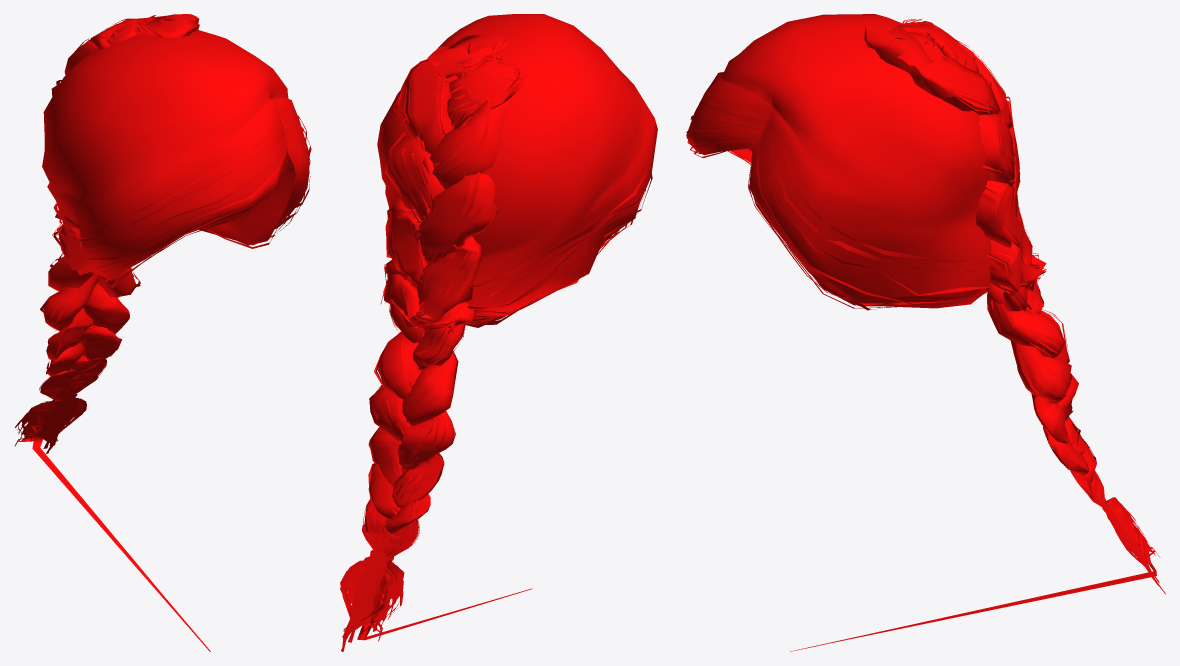
Rendered from elvs_french_braid_variation_M.glb.
3 views of the same model, side by side, from view 1: azimuth 30°, elevation 25°; view 2: azimuth 150°, elevation 25°; view 3: azimuth 270°, elevation 25° (orthographic). The views are drawn at different scales.
Size of the model in its own units: 0.2122 by 0.5352 by 0.3731.
1 material, 1 textured.
